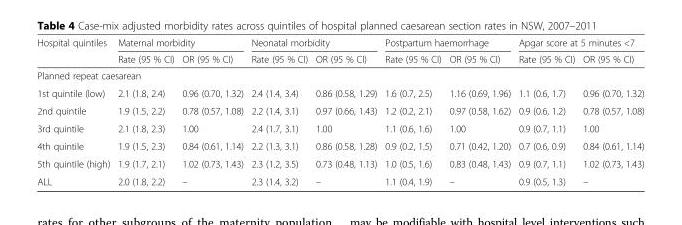table: (36, 36, 643, 186)
table column: (36, 36, 113, 186), (177, 36, 246, 186), (311, 36, 380, 186), (444, 36, 513, 186), (246, 36, 311, 186), (513, 36, 578, 186), (578, 36, 643, 186), (113, 36, 177, 186), (380, 36, 444, 186)
table column header: (36, 36, 643, 66)
table projected row header: (36, 66, 643, 84)
table row: (36, 66, 643, 84), (36, 101, 643, 119), (36, 136, 643, 154), (36, 154, 643, 172), (36, 84, 643, 101), (36, 119, 643, 136), (36, 50, 643, 66), (36, 36, 643, 50), (36, 172, 643, 186)
table spanning cell: (36, 36, 113, 66), (246, 36, 380, 50), (113, 36, 246, 50), (380, 36, 513, 50), (513, 36, 643, 50)
